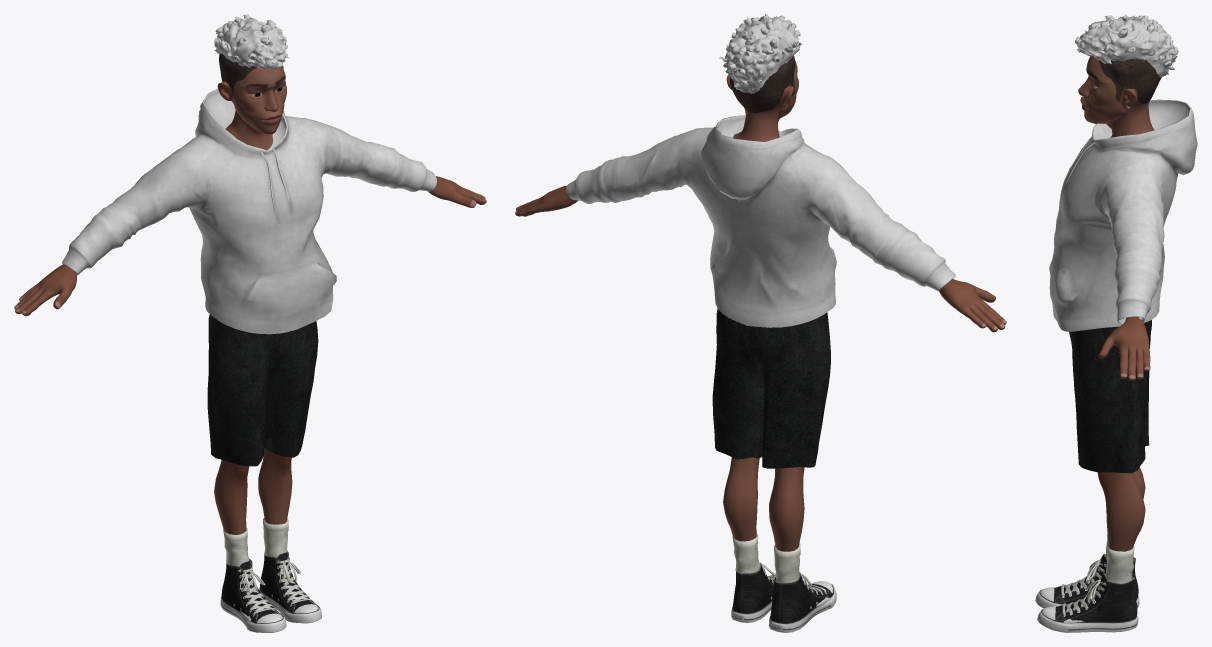
Rendered from frankfbxFINAL.fbx.
The picture shows the model from 3 angles, left to right: view 1: azimuth 30°, elevation 25°; view 2: azimuth 150°, elevation 25°; view 3: azimuth 270°, elevation 25°; orthographic projection. The views are drawn at different scales.
Visible parts, largest first — view 1: FRANKOBJ:Hoodie, FRANKOBJ:Shorts, FRANKOBJ:CC_Base_Body, FRANKOBJ:Hair, shoes_L, FRANKOBJ:shoes_L, FRANKOBJ:sockL, sockL, FRANKOBJ:CC_Hair; view 2: FRANKOBJ:Hoodie, FRANKOBJ:Shorts, FRANKOBJ:CC_Base_Body, FRANKOBJ:Hair, shoes_L, FRANKOBJ:shoes_L, FRANKOBJ:CC_Hair, sockL, FRANKOBJ:sockL; view 3: FRANKOBJ:Hoodie, FRANKOBJ:Shorts, FRANKOBJ:CC_Base_Body, FRANKOBJ:Hair, FRANKOBJ:shoes_L, FRANKOBJ:CC_Hair, shoes_L, FRANKOBJ:sockL.
Boxes of the visible parts, box(x1,y1,x2,y2) form: FRANKOBJ:Hoodie: box(62, 88, 436, 334); FRANKOBJ:Shorts: box(207, 314, 318, 466); FRANKOBJ:CC_Base_Body: box(14, 66, 486, 622); FRANKOBJ:Hair: box(214, 14, 288, 68); shoes_L: box(220, 559, 286, 632); FRANKOBJ:shoes_L: box(259, 551, 321, 623); FRANKOBJ:sockL: box(263, 517, 288, 557); sockL: box(223, 528, 249, 566); FRANKOBJ:CC_Hair: box(219, 54, 283, 98); FRANKOBJ:Hoodie: box(566, 115, 955, 327); FRANKOBJ:Shorts: box(712, 308, 830, 468); FRANKOBJ:CC_Base_Body: box(515, 60, 1006, 606); FRANKOBJ:Hair: box(719, 14, 802, 93); shoes_L: box(768, 572, 836, 632); FRANKOBJ:shoes_L: box(731, 562, 775, 622); FRANKOBJ:CC_Hair: box(729, 55, 795, 112); sockL: box(774, 543, 800, 582); FRANKOBJ:sockL: box(732, 532, 759, 573); FRANKOBJ:Hoodie: box(1049, 99, 1197, 331); FRANKOBJ:Shorts: box(1069, 320, 1151, 473); FRANKOBJ:CC_Base_Body: box(1062, 55, 1154, 623); FRANKOBJ:Hair: box(1075, 14, 1178, 77); FRANKOBJ:shoes_L: box(1037, 573, 1138, 632); FRANKOBJ:CC_Hair: box(1098, 59, 1161, 103); shoes_L: box(1035, 553, 1139, 608); FRANKOBJ:sockL: box(1105, 544, 1134, 583).
Bounding box in the file's own units: 559 × 662 × 163.
